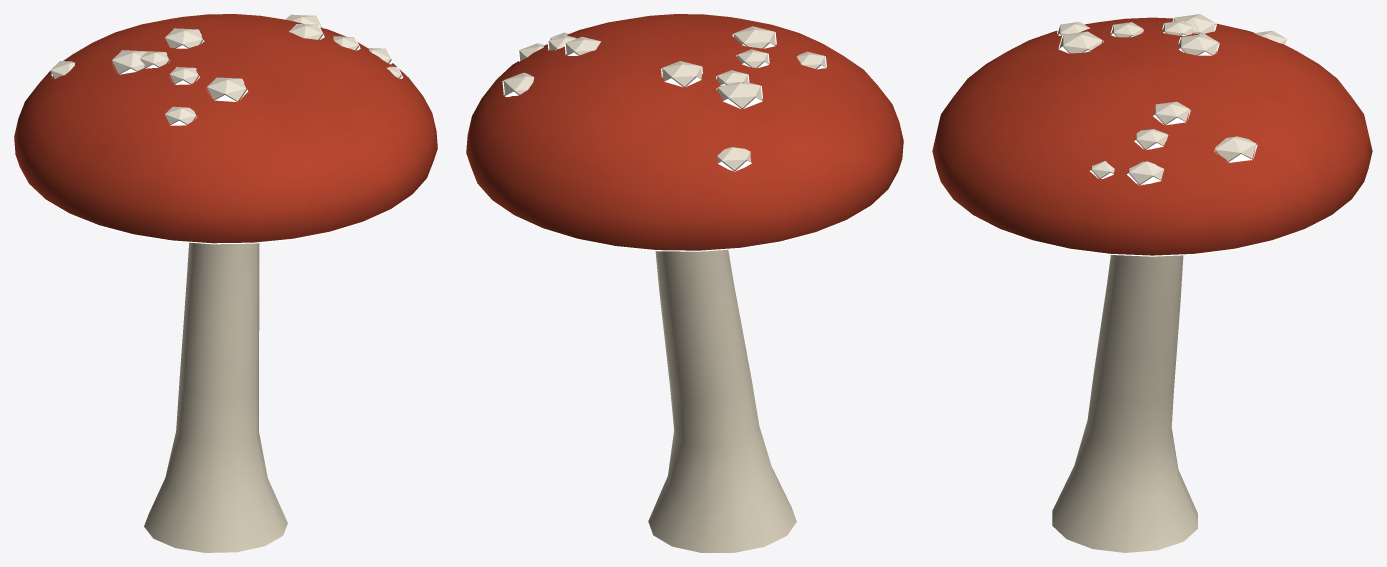
File: houba_bedla.glb
3 views of the same model, side by side, from view 1: azimuth 30°, elevation 25°; view 2: azimuth 150°, elevation 25°; view 3: azimuth 270°, elevation 25° (orthographic). The views are drawn at different scales.
Parts seen in each view (by area): view 1: houba_tren, noc; view 2: houba_tren, noc; view 3: houba_tren, noc.
Boxes of the visible parts, x1,y1,x2,y2 form: houba_tren: (14,14,437,552); noc: (20,15,433,244); houba_tren: (466,14,903,552); noc: (471,32,897,251); houba_tren: (932,14,1372,552); noc: (941,18,1363,256).
Size of the model in its own units: 5.19 by 6.33 by 5.19.
Materials: 2 (1 with a texture image).
